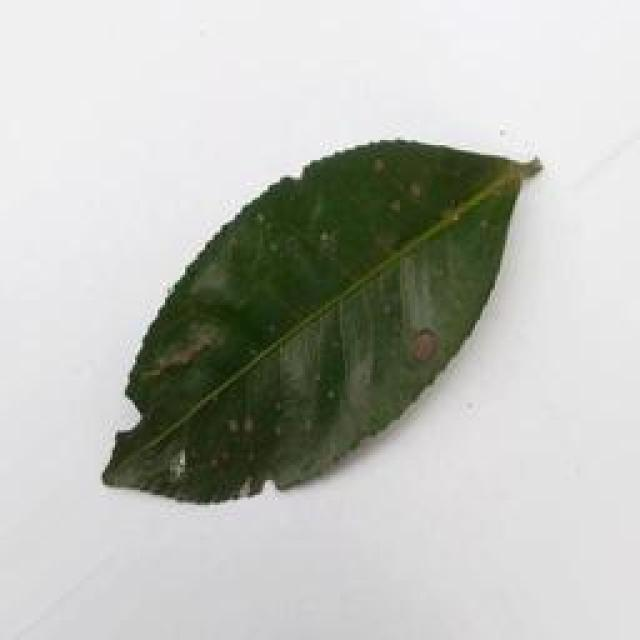Algal Leaf Spot: (76, 120, 557, 506)
